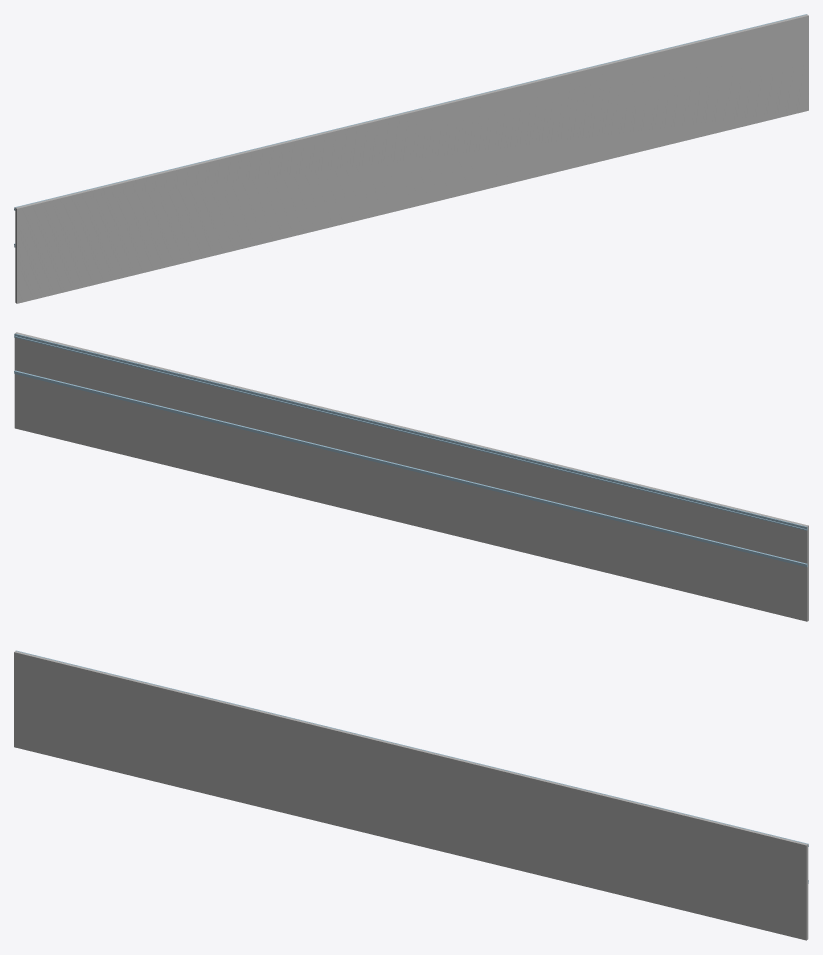
File: Pannels.fbx
3 views of the same model, one above another, from view 1: azimuth 30°, elevation 25°; view 2: azimuth 150°, elevation 25°; view 3: azimuth 330°, elevation 25° (orthographic).
Visible parts, largest first — view 1: Box6149, Box18298; view 2: Box6149, Box18298, Box18299; view 3: Box6149, Box18298.
Boxes of the visible parts, x1,y1,x2,y2 form: Box6149: [15, 14, 808, 303]; Box18298: [14, 14, 806, 210]; Box6149: [14, 332, 808, 621]; Box18298: [14, 333, 807, 530]; Box18299: [14, 370, 807, 567]; Box6149: [14, 651, 808, 940]; Box18298: [15, 650, 808, 846].
Size of the model in its own units: 724 by 82.92 by 4.39.
